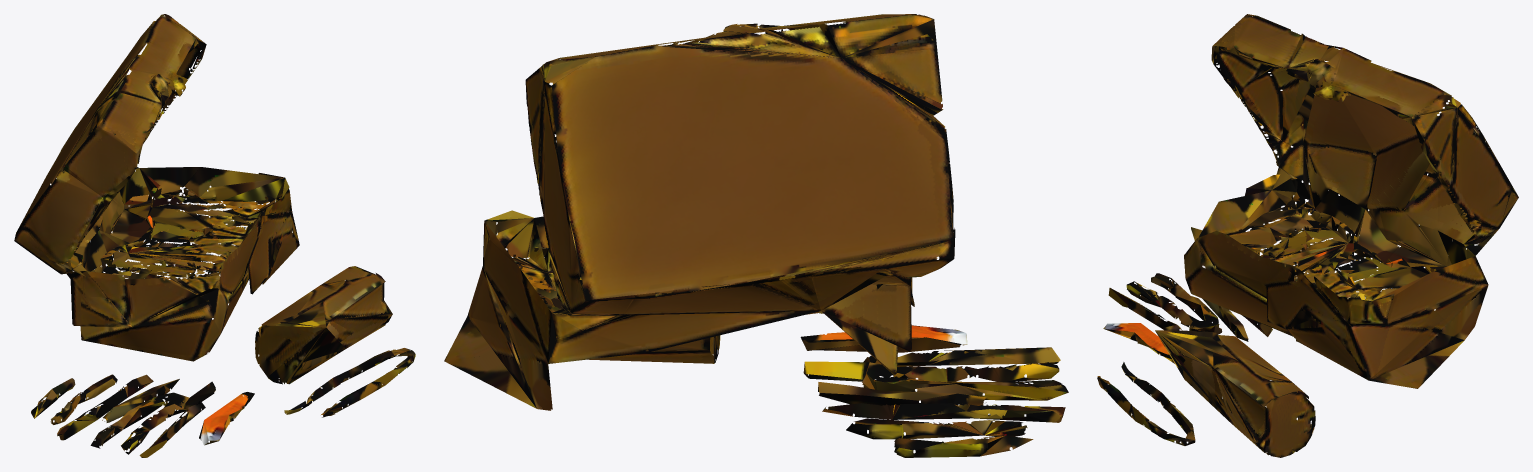
The model's file is TrapDisarmKit.glb.
3 renders of one model, left to right at view 1: azimuth 30°, elevation 25°; view 2: azimuth 150°, elevation 25°; view 3: azimuth 270°, elevation 25°, orthographic. The views are drawn at different scales.
Visible parts, largest first — view 1: temp_mesh.ply; view 2: temp_mesh.ply; view 3: temp_mesh.ply.
Boxes of the visible parts, x1=… form: temp_mesh.ply: x1=14, y1=14, x2=415, y2=457; temp_mesh.ply: x1=444, y1=14, x2=1068, y2=457; temp_mesh.ply: x1=1097, y1=14, x2=1518, y2=457.
Bounding box in the file's own units: 0.25 × 0.1898 × 0.2397.
1 material, 1 textured.
